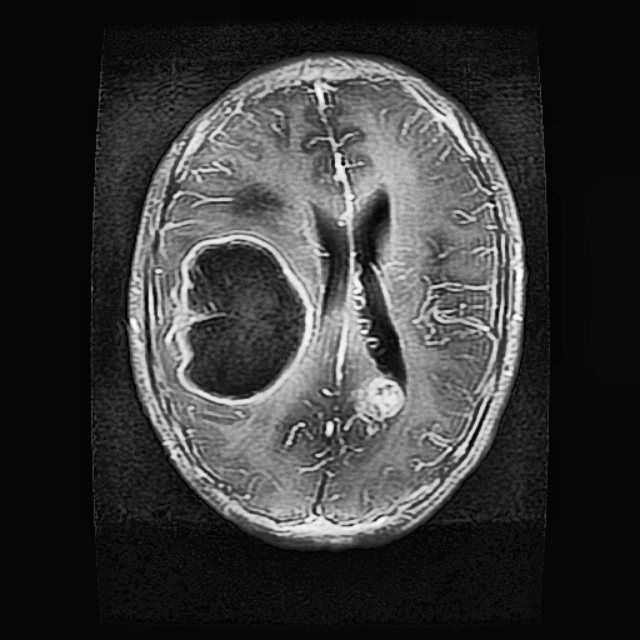Meningioma: (177, 237, 312, 400)
